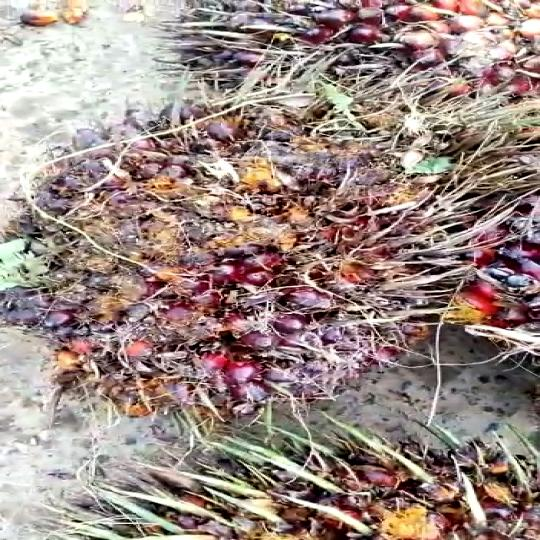masak: (1, 87, 486, 442)
